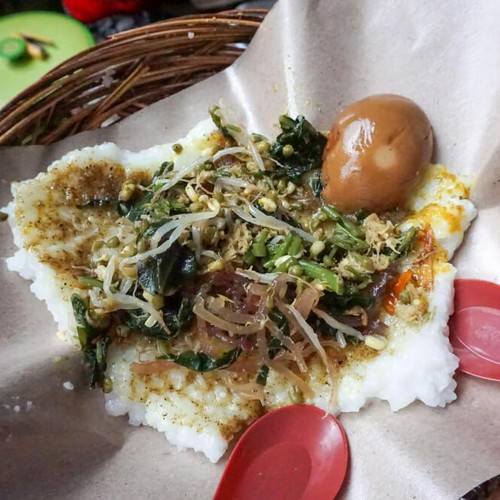nasi tepeng: (9, 107, 483, 425)
